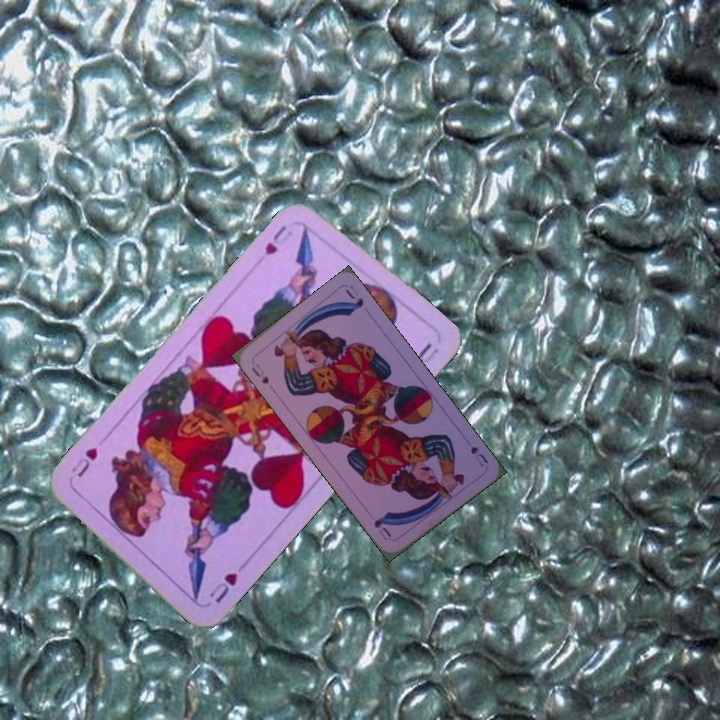HU: (205, 558, 249, 606), (260, 221, 289, 258)
SU: (466, 442, 491, 470), (247, 359, 272, 387)
